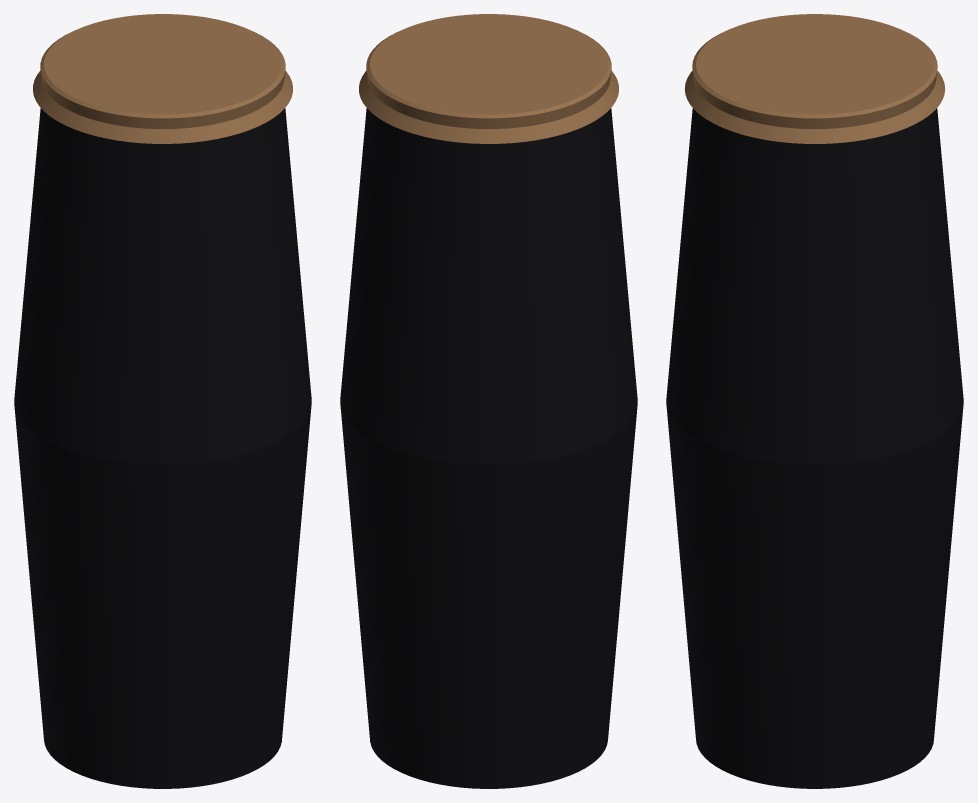
3 views of the same model, side by side, from view 1: azimuth 30°, elevation 25°; view 2: azimuth 150°, elevation 25°; view 3: azimuth 270°, elevation 25° (orthographic).
Visible parts, largest first — view 1: body, cap; view 2: body, cap; view 3: body, cap.
Part boxes in pixels (bbox=[...]): body: bbox=[14, 108, 311, 788]; cap: bbox=[33, 14, 292, 143]; body: bbox=[340, 108, 637, 788]; cap: bbox=[359, 14, 618, 143]; body: bbox=[666, 108, 963, 788]; cap: bbox=[685, 14, 944, 143].
Bounding box in the file's own units: 0.24 × 0.6 × 0.24.
